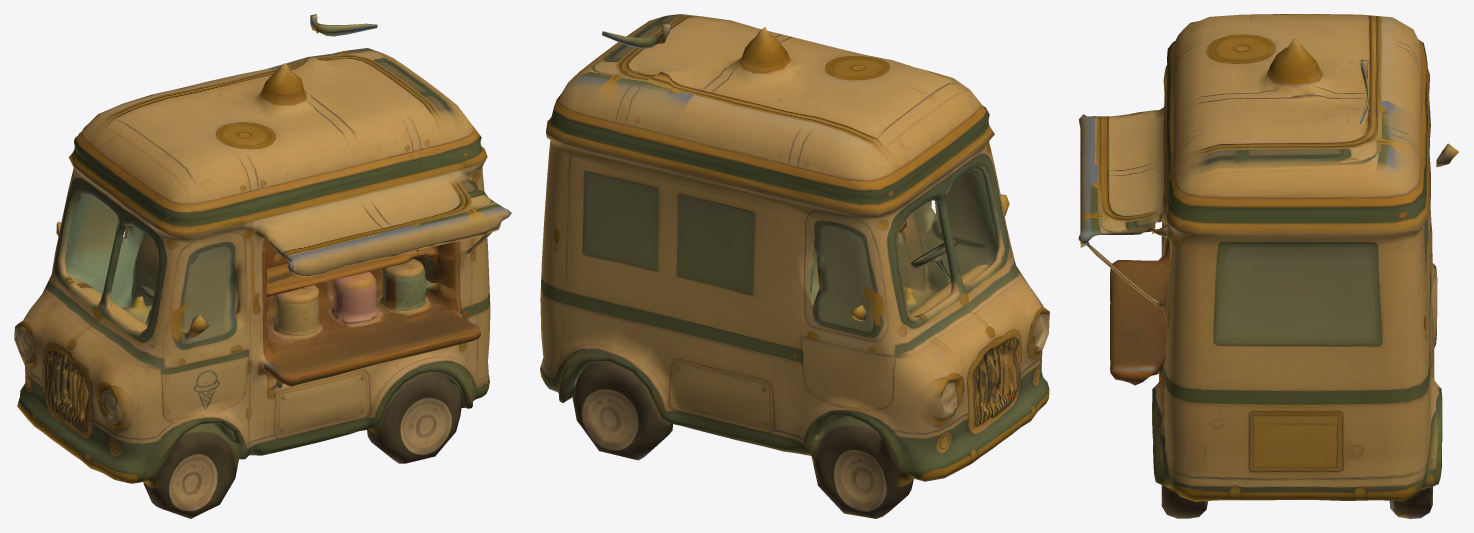
File: ice-cream-truck.glb
The picture shows the model from 3 angles, left to right: view 1: azimuth 30°, elevation 25°; view 2: azimuth 150°, elevation 25°; view 3: azimuth 270°, elevation 25°; orthographic projection. The views are drawn at different scales.
Visible parts, largest first — view 1: tripo_node_5ad83558; view 2: tripo_node_5ad83558; view 3: tripo_node_5ad83558.
Boxes of the visible parts, <box> form: tripo_node_5ad83558: <box>14,14,511,518</box>; tripo_node_5ad83558: <box>540,14,1049,518</box>; tripo_node_5ad83558: <box>1078,14,1458,518</box>.
Bounding box in the file's own units: 98.89 × 95.56 × 74.51.
Materials: 1 (1 with a texture image).
